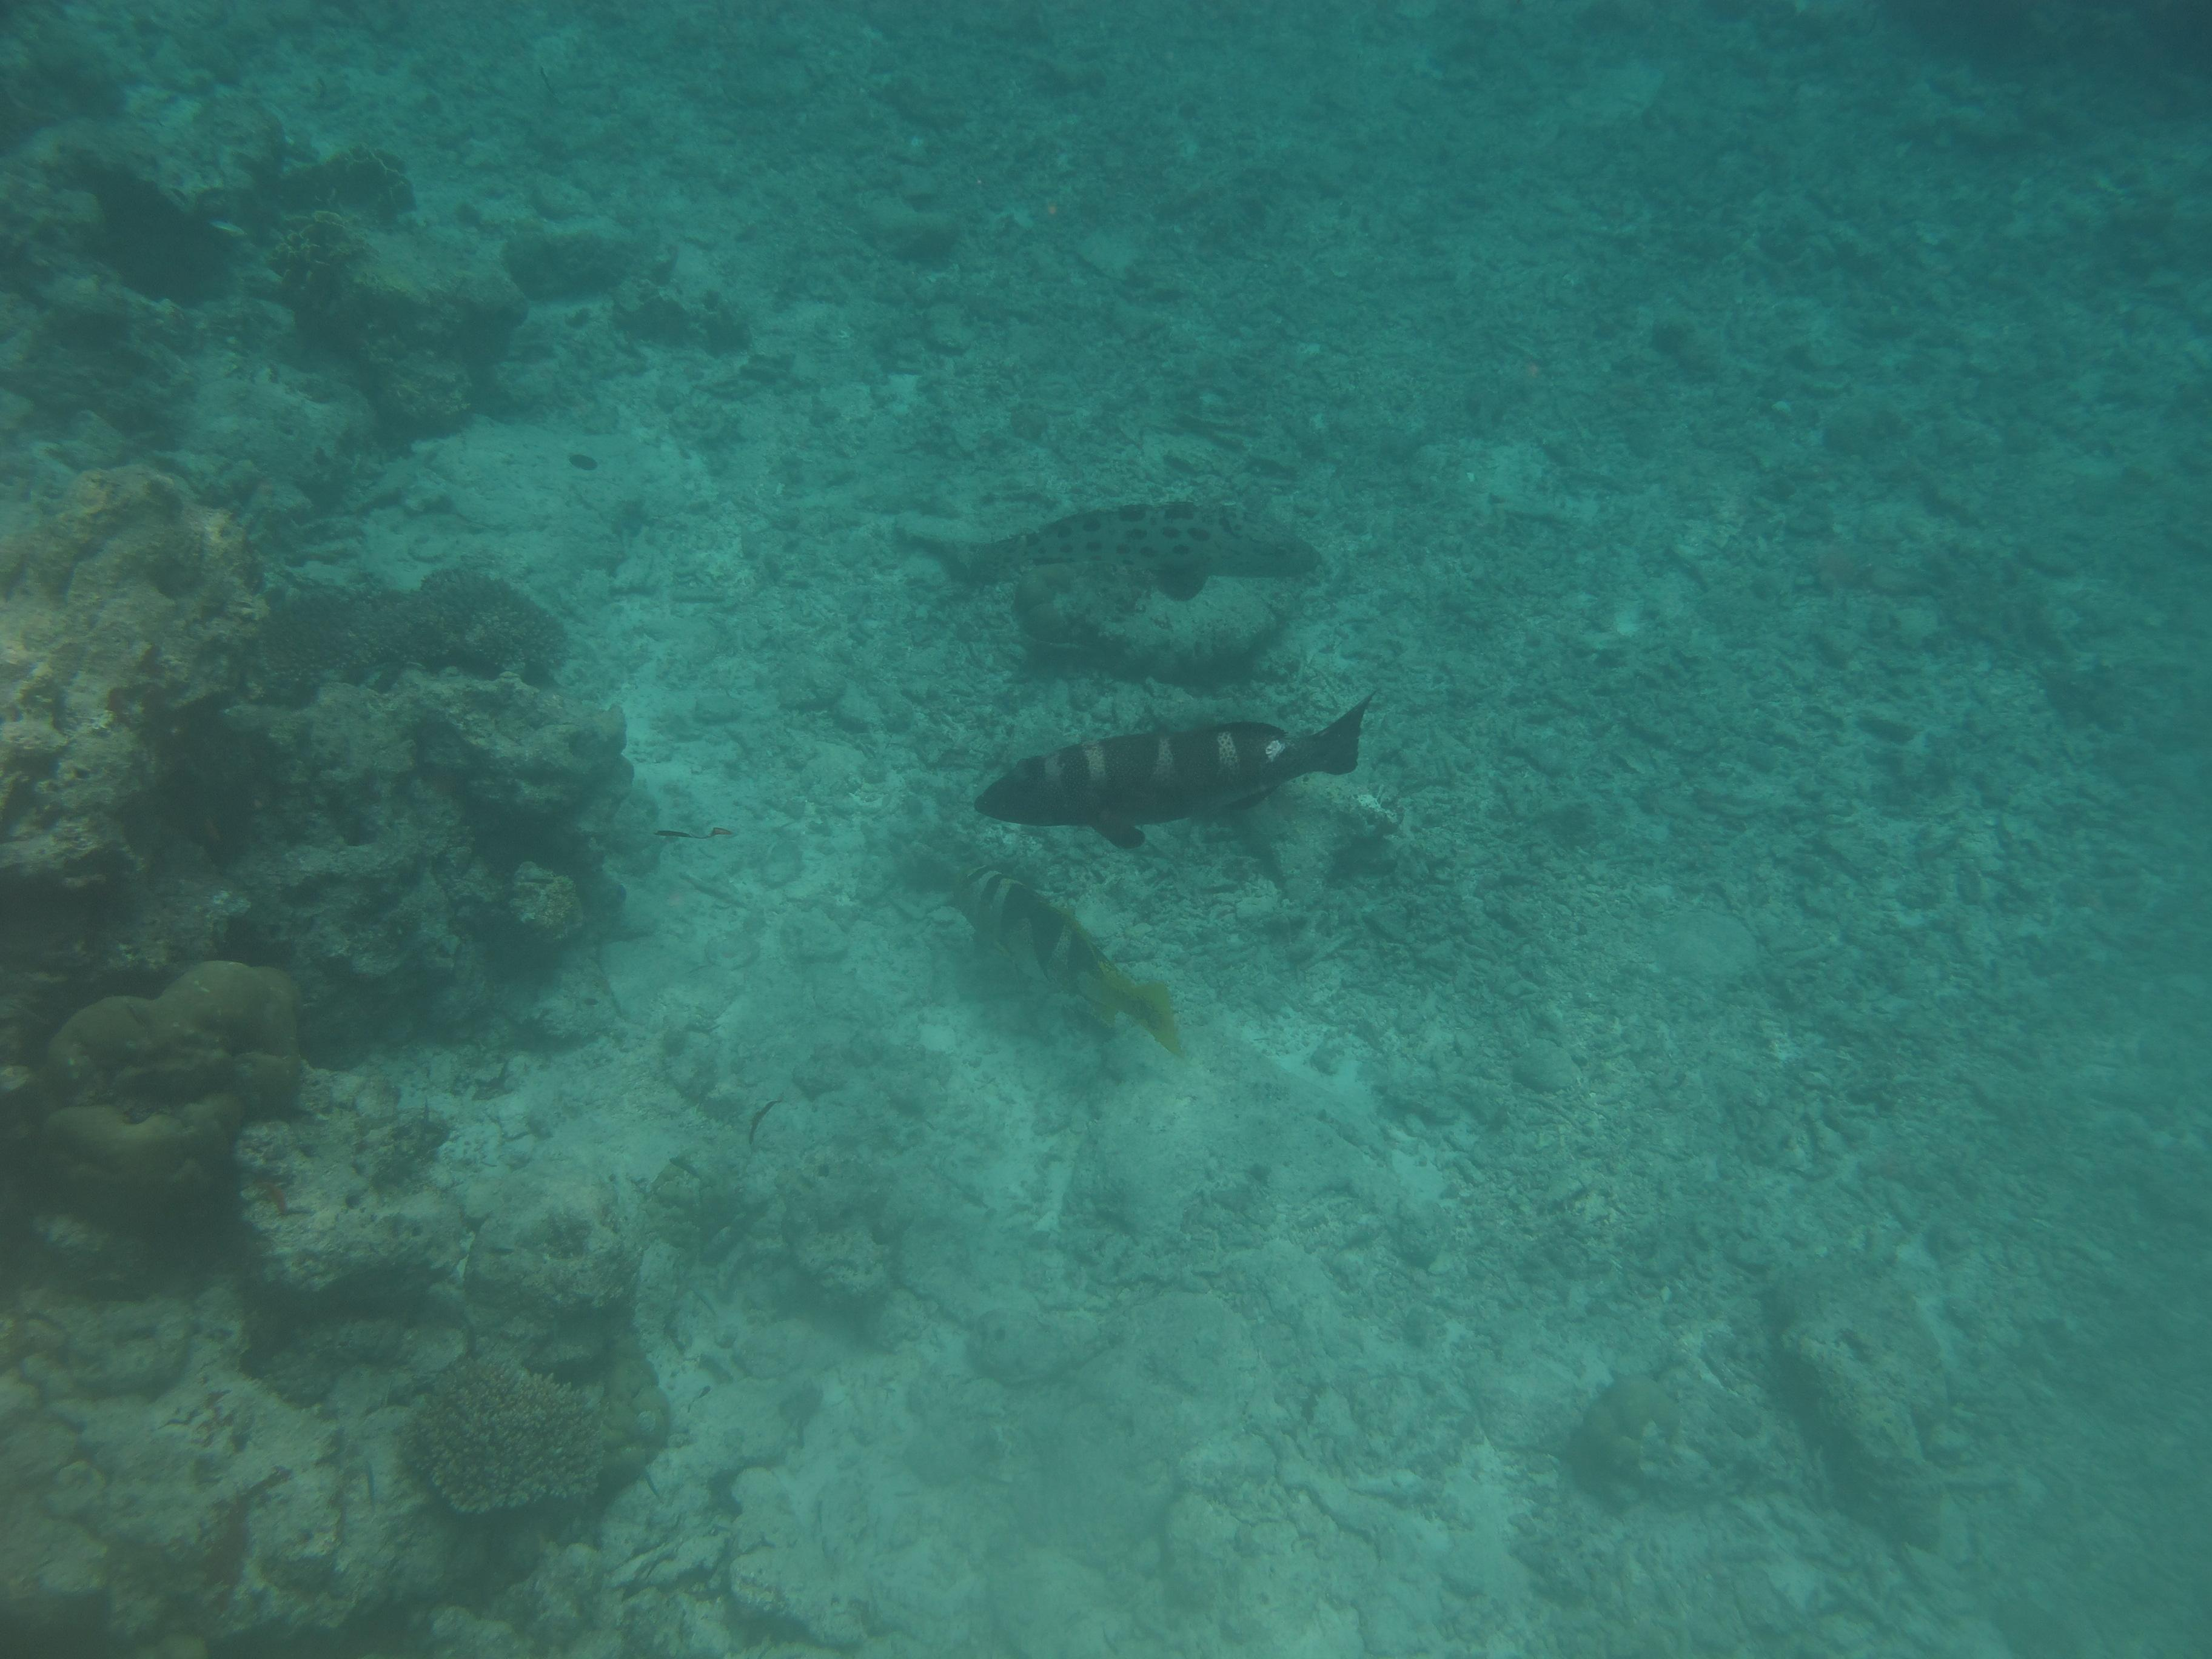Fish: (920, 842, 1224, 1084)
